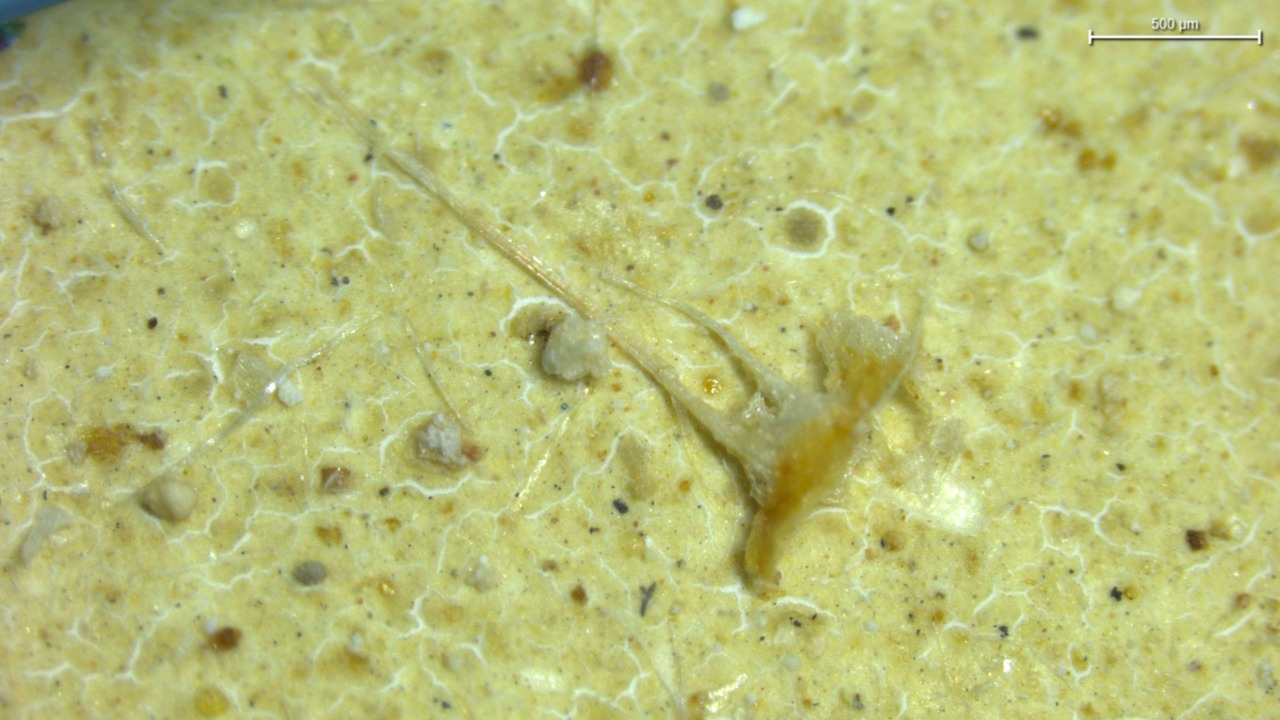microplastic_fragment: (541, 315, 609, 381), (134, 475, 196, 522), (416, 413, 462, 464), (277, 378, 303, 406)
